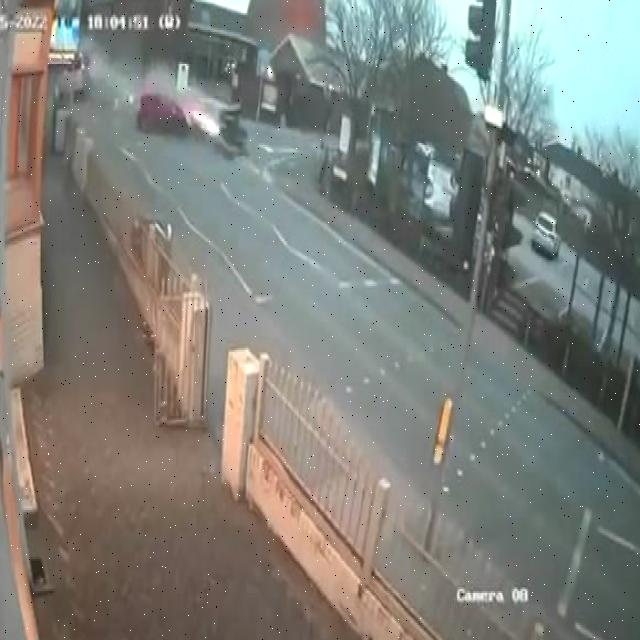accident: (133, 62, 247, 173)
